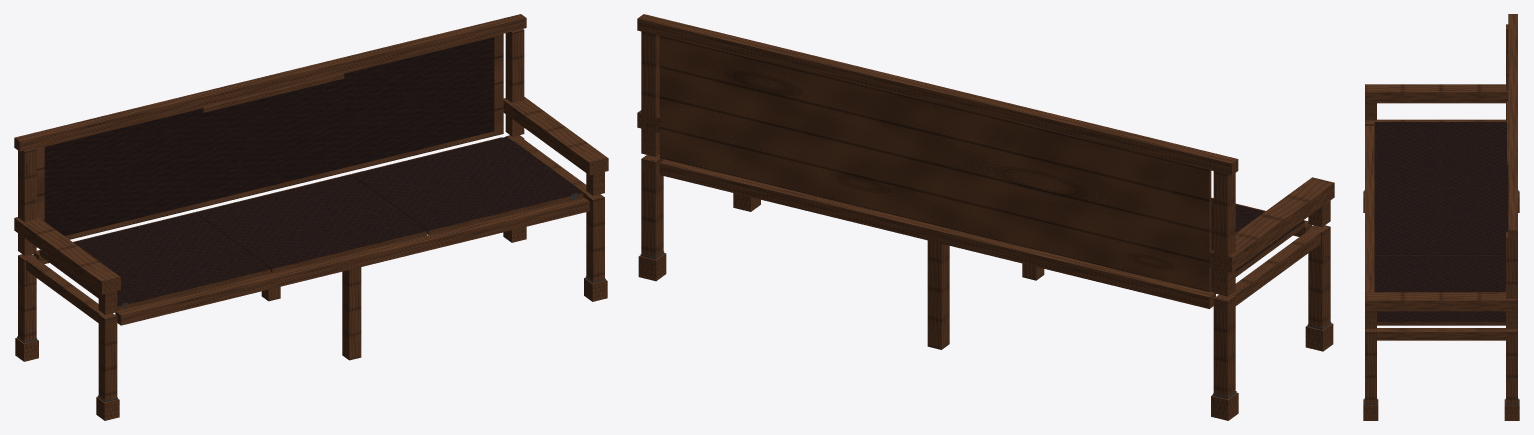
File: sofa_three.obj
3 views of the same model, side by side, from view 1: azimuth 30°, elevation 25°; view 2: azimuth 150°, elevation 25°; view 3: azimuth 270°, elevation 25° (orthographic). The views are drawn at different scales.
Visible parts, largest first — view 1: material_2, material_5; view 2: material_5, material_2; view 3: material_2, material_5.
Part boxes in pixels (x1,y1,x2,y2): material_2: (40,37,582,306); material_5: (14,14,608,420); material_5: (637,14,1334,420); material_2: (1211,198,1304,286); material_2: (1374,122,1508,321); material_5: (1363,14,1519,420).
Size of the model in its own units: 67.87 by 28.03 by 20.72.
3 materials, 3 textured.
